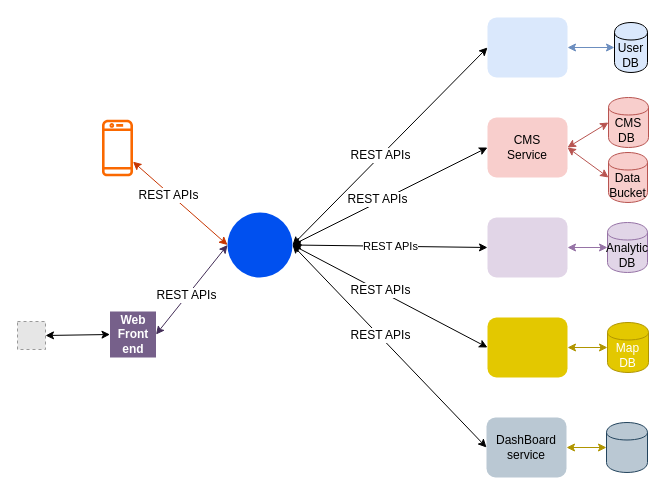
This 666x494 diagram has some shape labels left out. Grey dashed boxes stand in for pictures. The shapes that lost their labels are listed below. From the top down, each one's centre as x and y in pixels, then its label:
At (527,47): "User Auth Service".
At (259,244): "API Gateway".
At (527,247): "Content Analytic Service".
At (527,347): "Content + User Map Service".
At (627,447): "DB".
